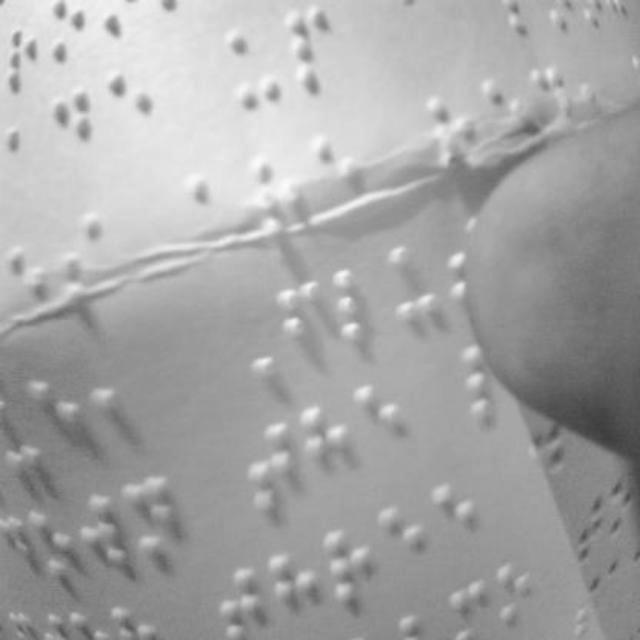braiile: (26, 368, 86, 464), (84, 489, 140, 587), (132, 471, 188, 567), (45, 82, 97, 185), (228, 16, 282, 114), (334, 259, 388, 357), (104, 63, 156, 163), (242, 424, 296, 520), (354, 377, 408, 473), (286, 5, 338, 103), (34, 505, 82, 605), (301, 402, 351, 496), (278, 276, 326, 372), (322, 526, 374, 612), (93, 359, 143, 448), (268, 546, 316, 638), (432, 477, 480, 567), (377, 500, 427, 586)
